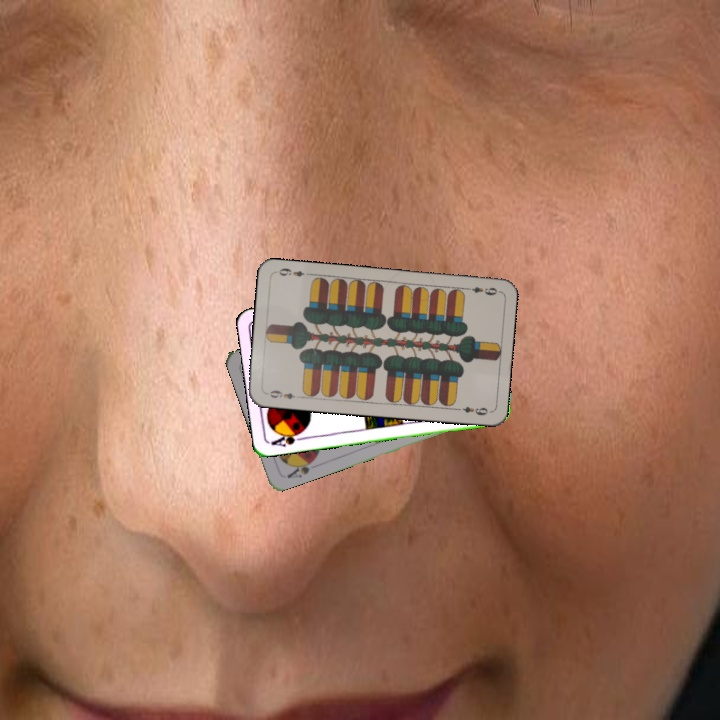E9: (461, 283, 500, 298), (263, 386, 297, 401)
SA: (283, 454, 318, 481), (268, 427, 308, 449)
